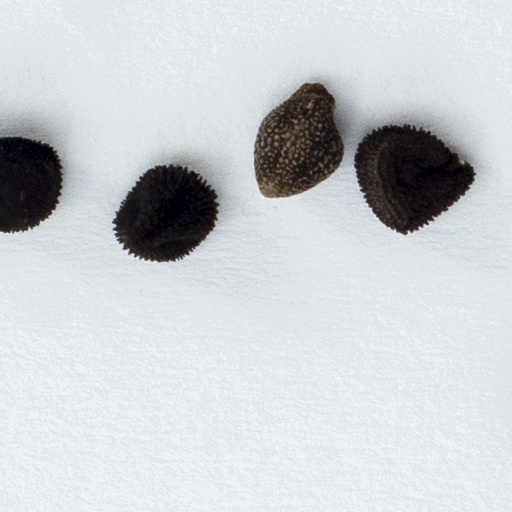Agrostemma-poly: (354, 123, 478, 240)
Convolvulus-poly: (253, 70, 348, 196)
